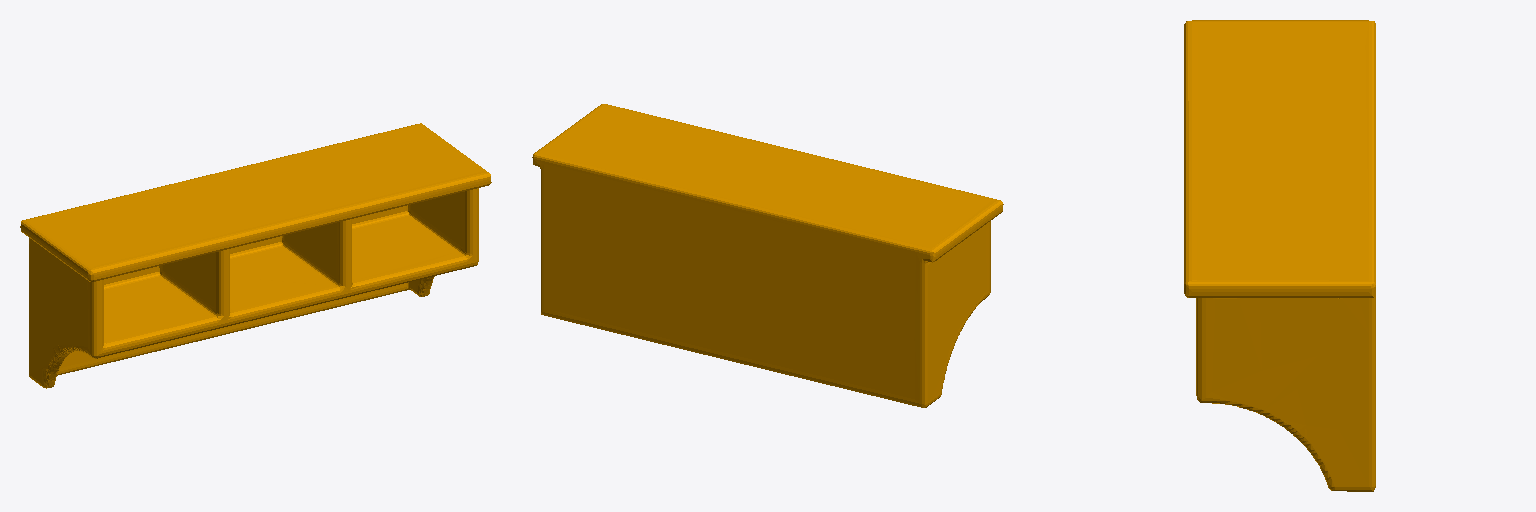
URDF robot description (obj.urdf):
<?xml version="1.0" ?>
<robot name="obj.urdf">
  <link name="baseLink">
    <visual>
      <origin rpy="0 0 0" xyz="0 0 0"/>
      <geometry>
        <mesh filename="tmp.obj" />
      </geometry>
    </visual>
    <collision>
      <origin rpy="0 0 0" xyz="0 0 0"/>
      <geometry>
        <mesh filename="tmp.obj" />
      </geometry>
    </collision>
  </link>
</robot>

--- Facts derived from the render (not from the file) ---
3 views of the same robot in one strip: view 1: azimuth 30°, elevation 25°; view 2: azimuth 150°, elevation 25°; view 3: azimuth 270°, elevation 25° (orthographic).
Model obj.urdf with 1 links and 0 joints (none), rooted at baseLink, posed every joint at zero.
Visible links, largest first — view 1: baseLink; view 2: baseLink; view 3: baseLink.
Link boxes in pixels (x1,y1,x2,y2): baseLink: [20, 123, 491, 388]; baseLink: [532, 104, 1003, 407]; baseLink: [1184, 20, 1375, 491].
Size in the robot's own frame: 0.3465 by 0.1064 by 0.1316 metres.
1 mesh visuals loaded from 1 distinct referenced files (1 OBJ).